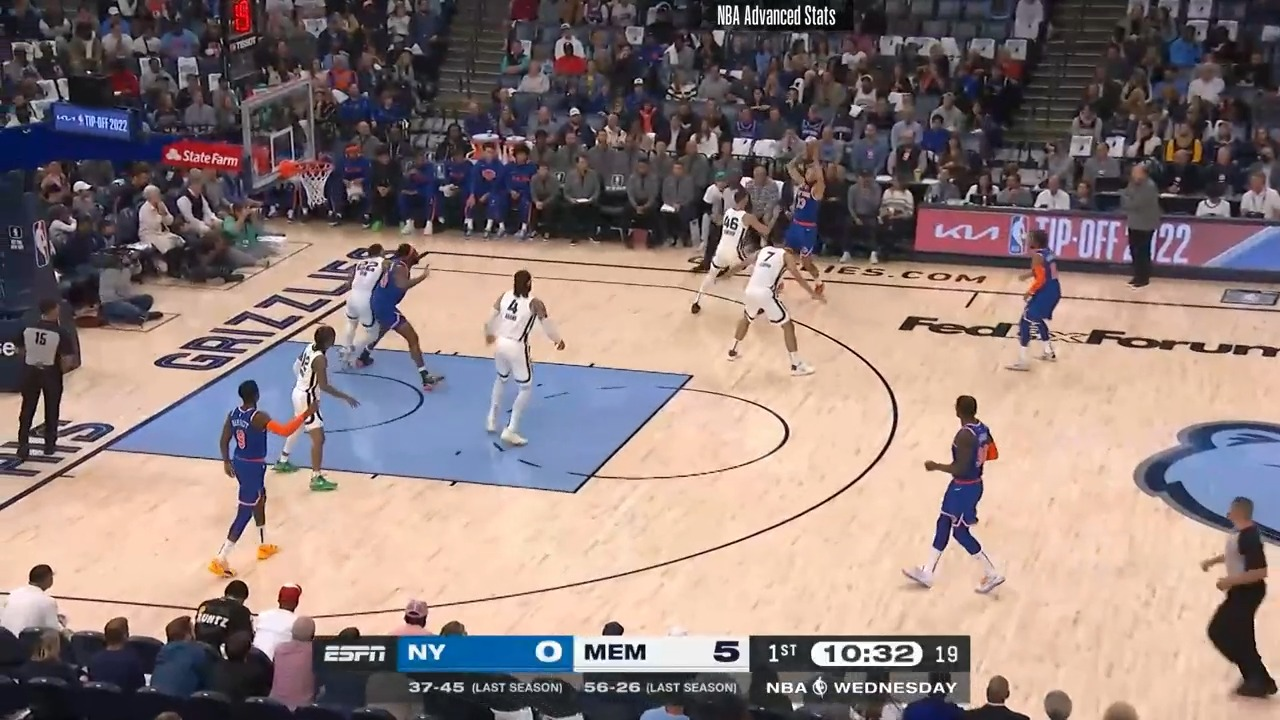net: (280, 154, 337, 210)
player: (910, 392, 1009, 595), (478, 266, 563, 456), (215, 380, 295, 578), (346, 238, 441, 394), (272, 324, 355, 493), (726, 230, 821, 377), (691, 189, 768, 318), (1004, 228, 1061, 373), (775, 145, 826, 300), (342, 238, 399, 367)
referee: (1200, 494, 1280, 706), (13, 296, 78, 469)
